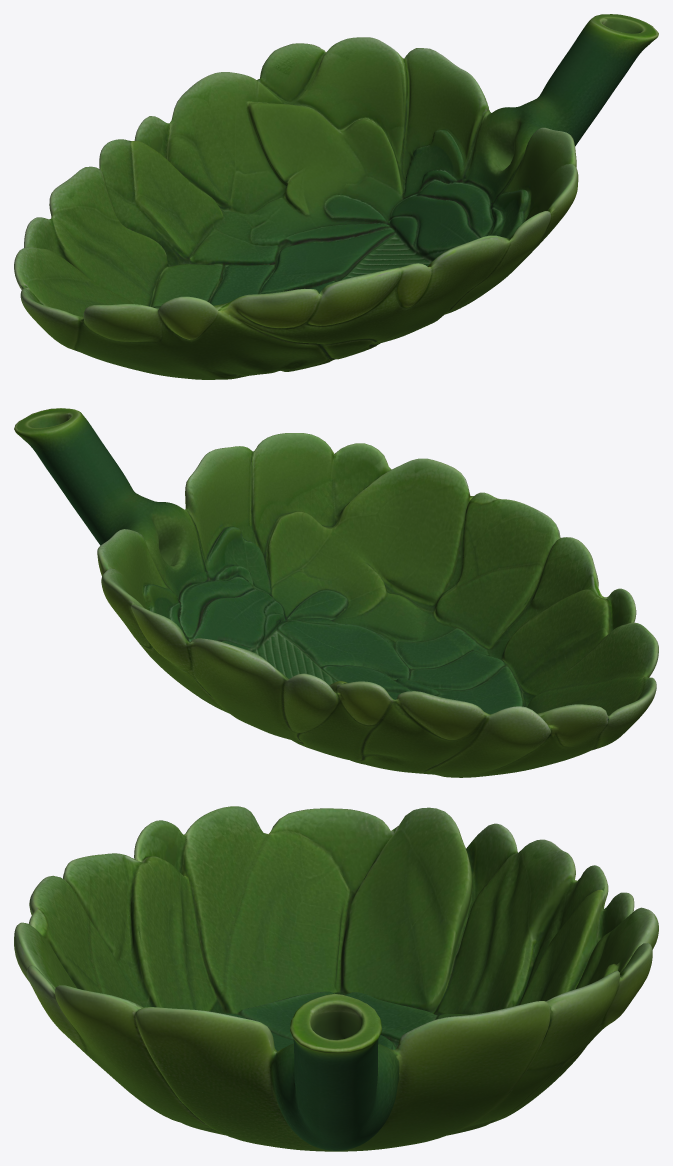
File: 碧玉痕都斯坦风格 荷花式吸杯.glb
3 views of the same model, one above another, from view 1: azimuth 30°, elevation 25°; view 2: azimuth 150°, elevation 25°; view 3: azimuth 270°, elevation 25° (orthographic). The views are drawn at different scales.
Visible parts, largest first — view 1: tripo_node_24de39dd; view 2: tripo_node_24de39dd; view 3: tripo_node_24de39dd.
Part boxes in pixels (<box>): tripo_node_24de39dd: <box>14,14,658,379</box>; tripo_node_24de39dd: <box>14,408,658,777</box>; tripo_node_24de39dd: <box>14,806,658,1151</box>.
Size of the model in its own units: 97.93 by 36.26 by 65.65.
1 material, 1 textured.
